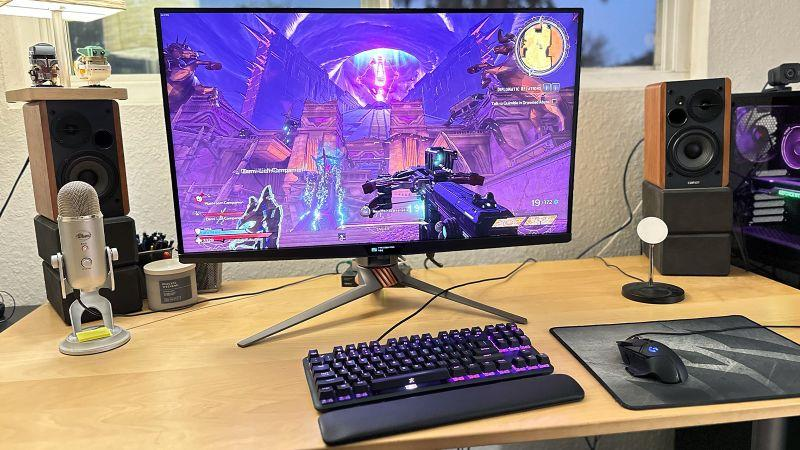monitor: (151, 4, 582, 267)
